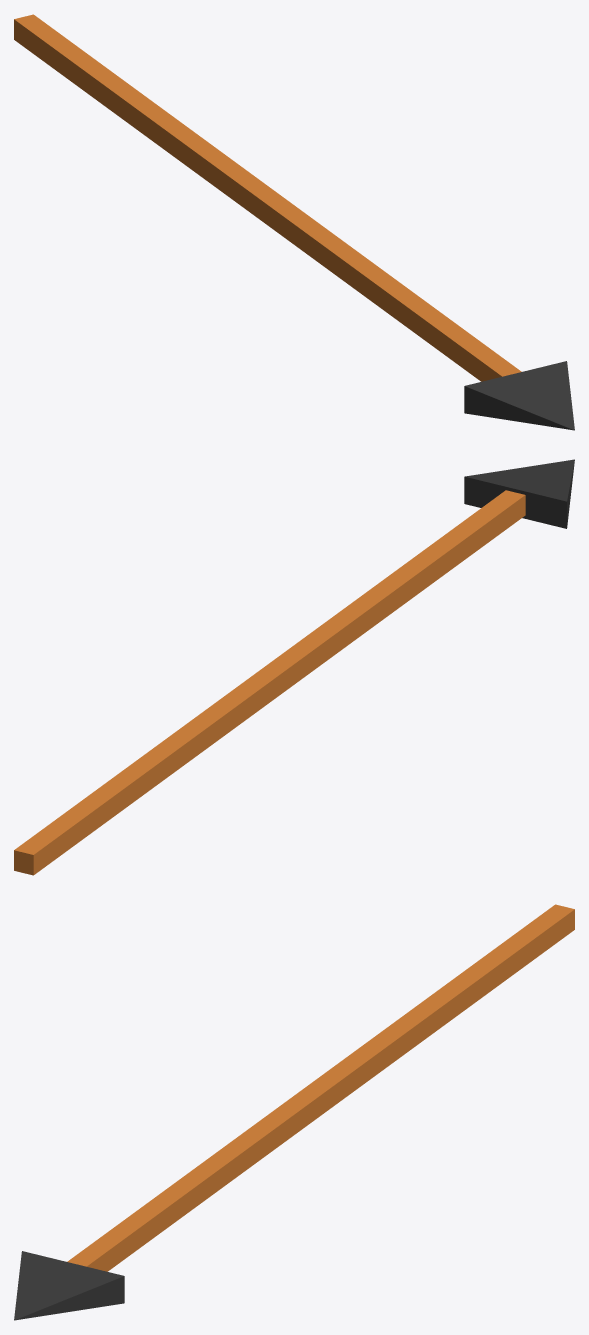
The model's file is ballista arrow big.fbx.
3 views of the same model, one above another, from view 1: azimuth 30°, elevation 25°; view 2: azimuth 150°, elevation 25°; view 3: azimuth 330°, elevation 25° (orthographic).
Visible parts, largest first — view 1: bow body; view 2: bow body; view 3: bow body.
Boxes of the visible parts, x1=… form: bow body: x1=14, y1=14, x2=574, y2=430; bow body: x1=14, y1=459, x2=574, y2=875; bow body: x1=14, y1=904, x2=574, y2=1320.
Size of the model in its own units: 24.73 by 6.31 by 230.
